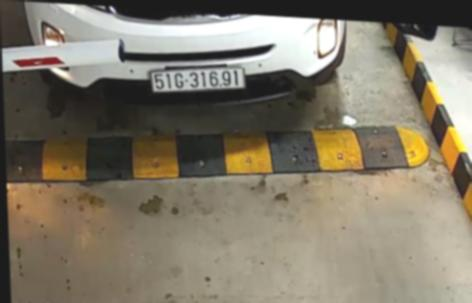License_Plate: (146, 58, 248, 103)
